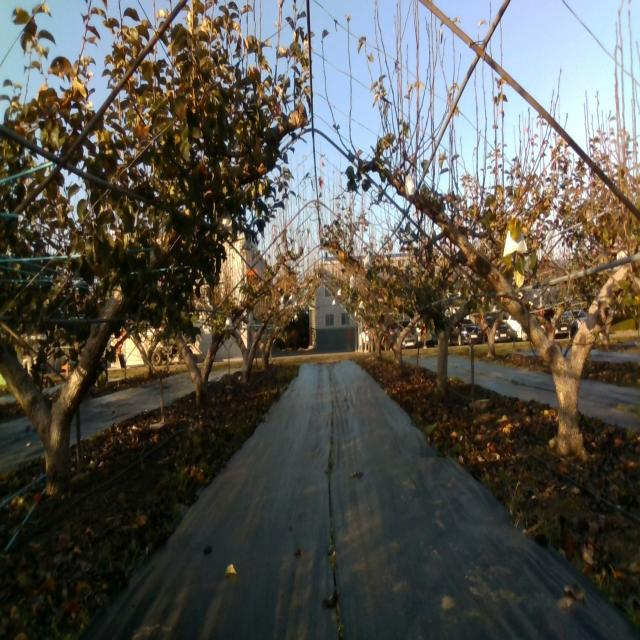pearbags: (503, 230, 528, 256), (218, 207, 233, 236), (404, 175, 416, 203)
